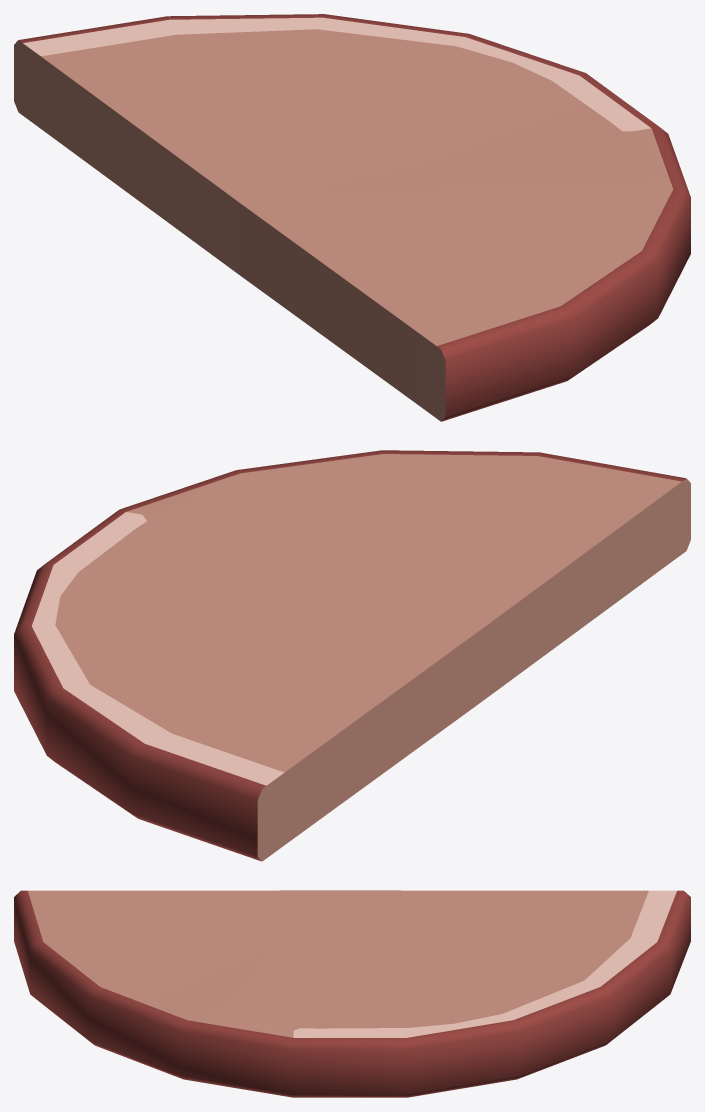
The model's file is Ham_half_Hotdog.001.fbx.
3 views of the same model, one above another, from view 1: azimuth 30°, elevation 25°; view 2: azimuth 150°, elevation 25°; view 3: azimuth 270°, elevation 25° (orthographic). The views are drawn at different scales.
Visible parts, largest first — view 1: Ham_half_Hotdog.001; view 2: Ham_half_Hotdog.001; view 3: Ham_half_Hotdog.001.
Boxes of the visible parts, x1,y1,x2,y2 form: Ham_half_Hotdog.001: (14,14,690,421); Ham_half_Hotdog.001: (14,450,690,861); Ham_half_Hotdog.001: (14,890,690,1097).
Bounding box in the file's own units: 42.64 × 79.62 × 7.64.
